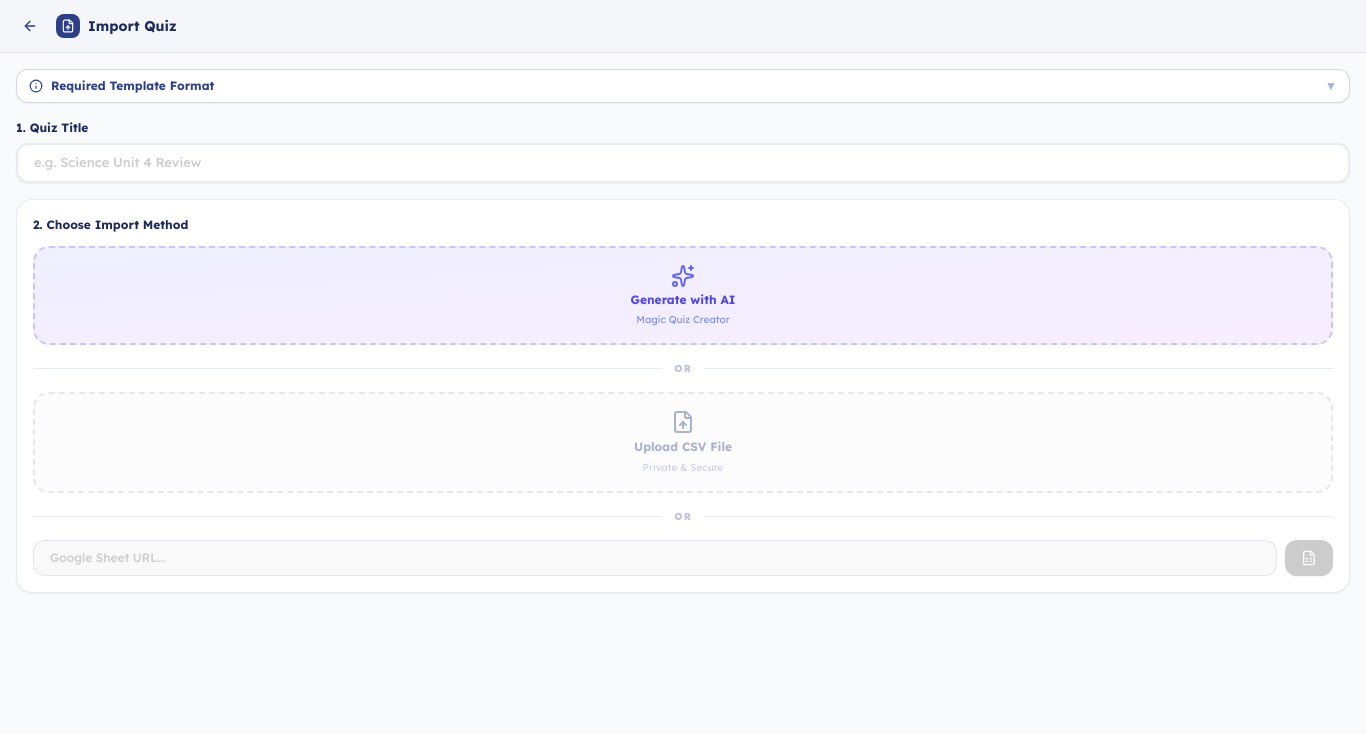
Test: QuizImporter › handles successful quiz generation with fallback defaults
# Open overlay
Click the text "Generate with AI": x=683, y=300 left=631, top=292, right=735, bottom=308
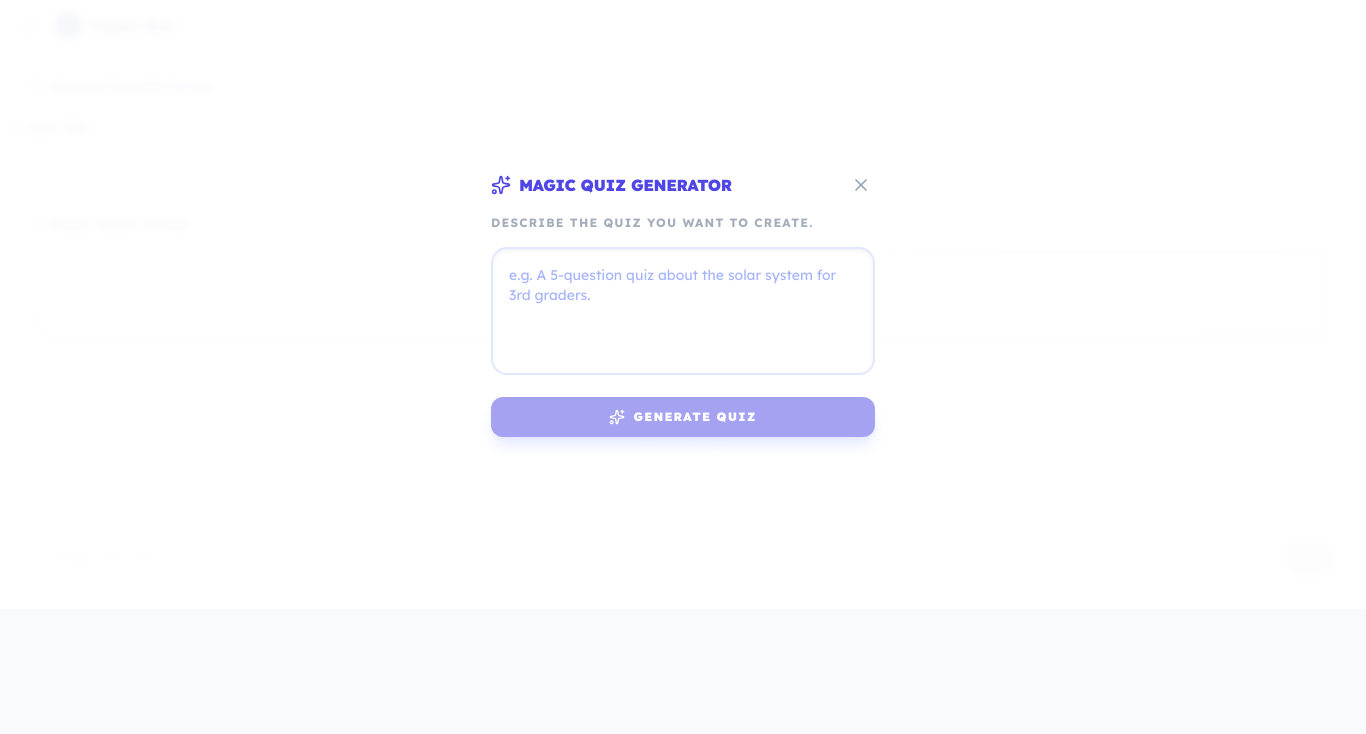
# Type prompt
Replace the text in the text box with placeholder "e.g. A 5-question quiz" with "Solar system quiz": x=683, y=311 left=491, top=247, right=875, bottom=375
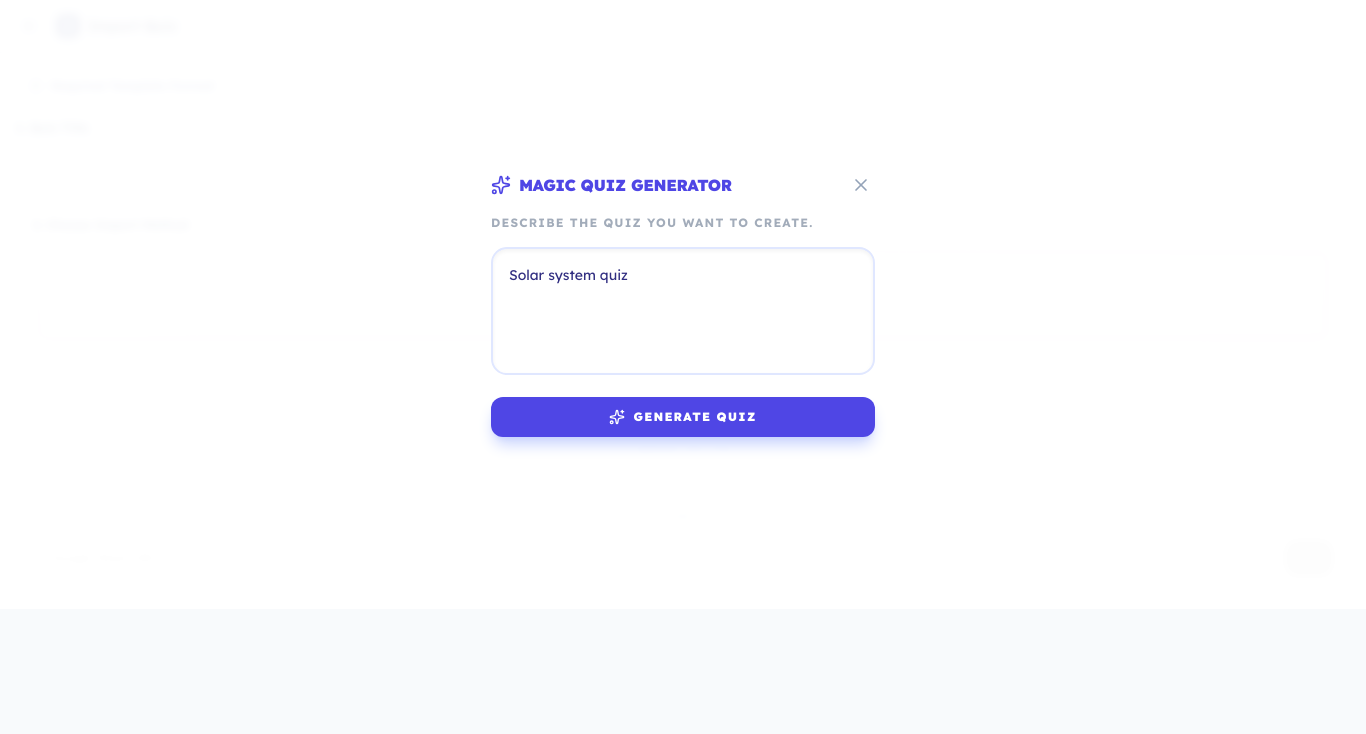
Click the button "Generate Quiz": x=683, y=417 left=491, top=397, right=875, bottom=437
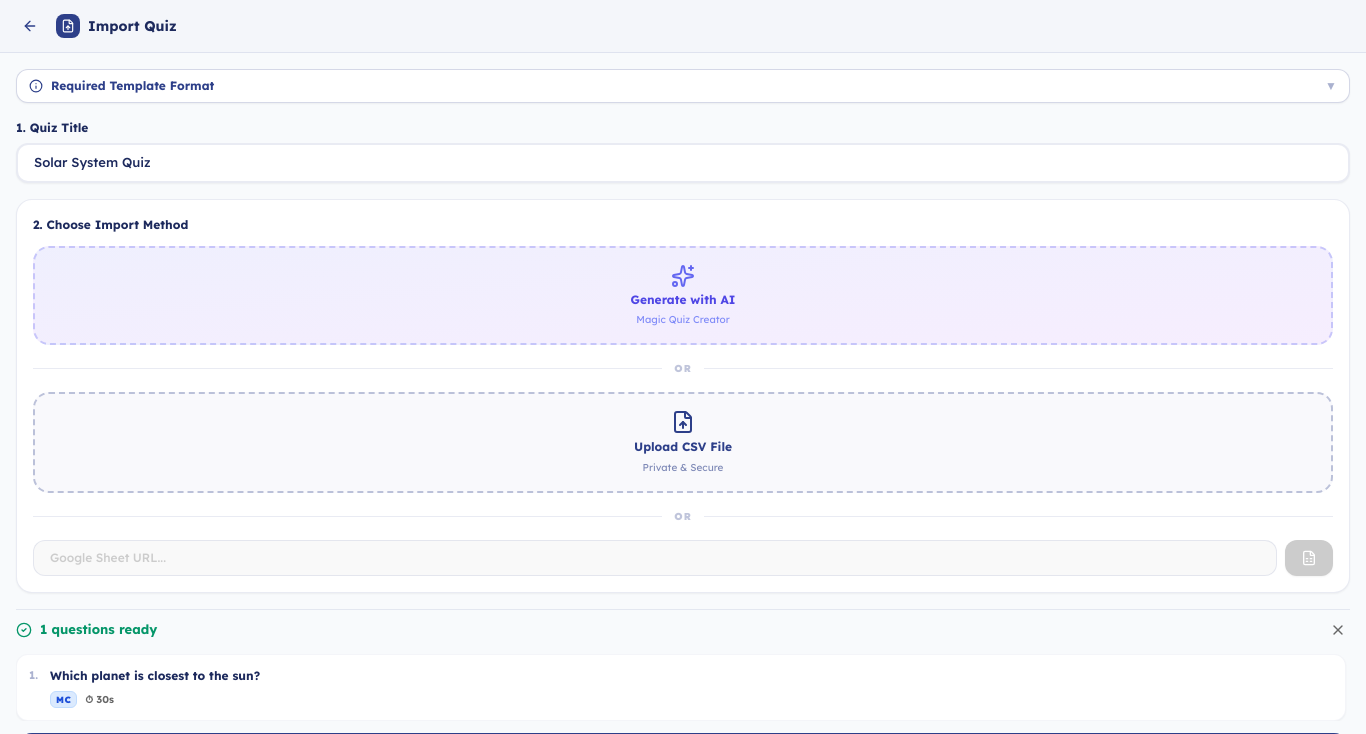
Expected: the field showing "Solar System Quiz" is shown, left=16, top=143, right=1350, bottom=182
Expected: the text "Which planet is closest to the sun?" is shown, left=50, top=668, right=260, bottom=682
Expected: the text "MC" is shown, left=50, top=690, right=77, bottom=708
